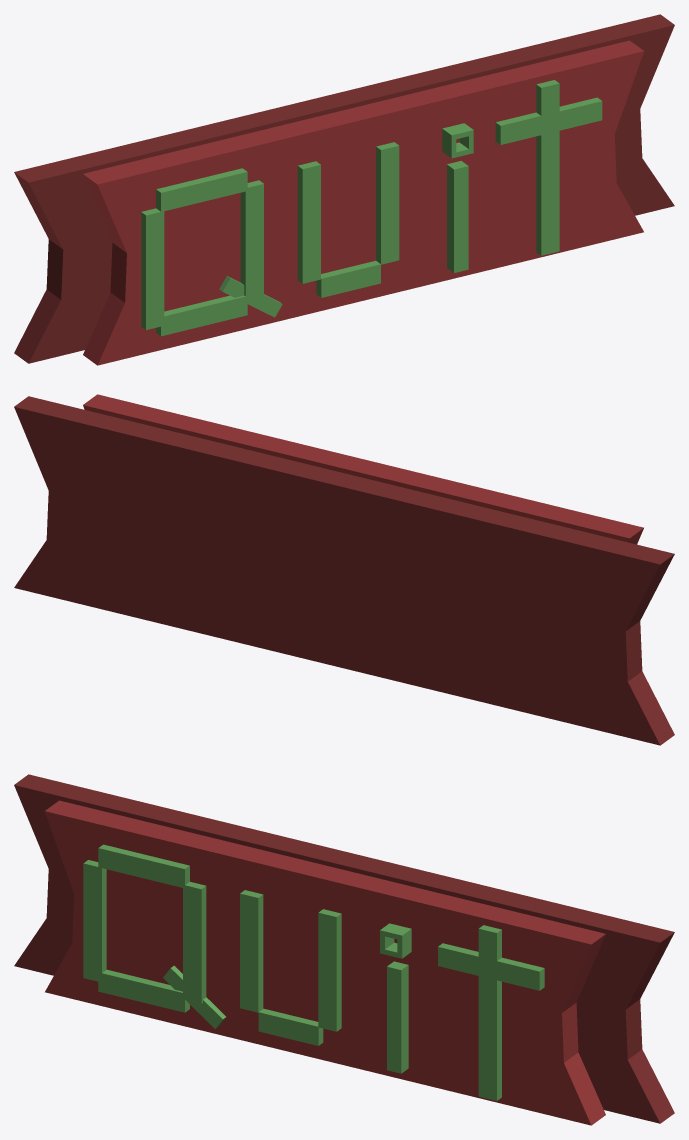
Rendered from Quit.fbx.
3 views of the same model, one above another, from view 1: azimuth 30°, elevation 25°; view 2: azimuth 150°, elevation 25°; view 3: azimuth 330°, elevation 25° (orthographic).
Visible parts, largest first — view 1: polySurface49; view 2: polySurface49; view 3: polySurface49.
Boxes of the visible parts, bbox=[...] form: polySurface49: bbox=[14, 14, 674, 365]; polySurface49: bbox=[14, 394, 674, 745]; polySurface49: bbox=[14, 774, 674, 1125].
Bounding box in the file's own units: 697 × 187 × 80.47.
